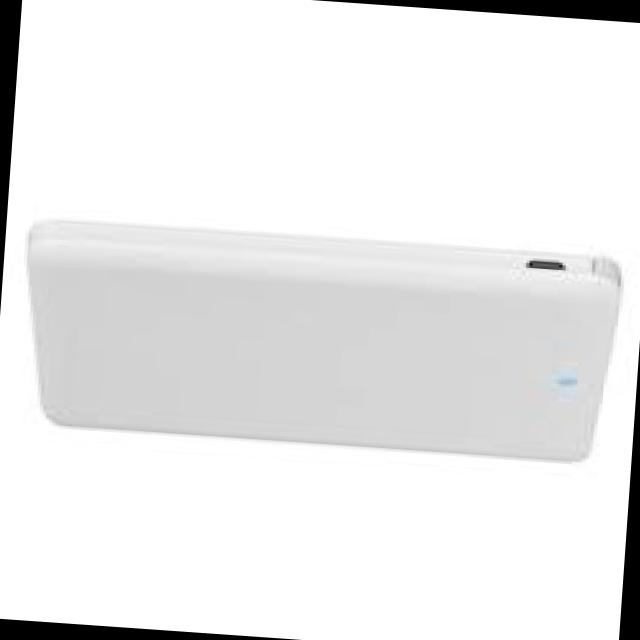portable-charger: (8, 210, 626, 468)
